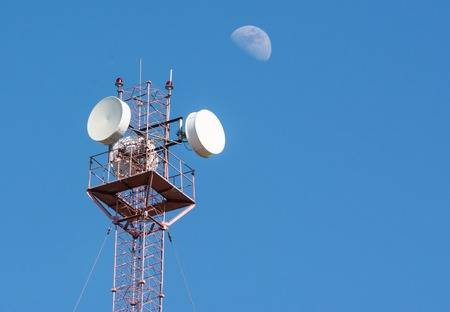b: (186, 109, 227, 159), (87, 95, 126, 143)
